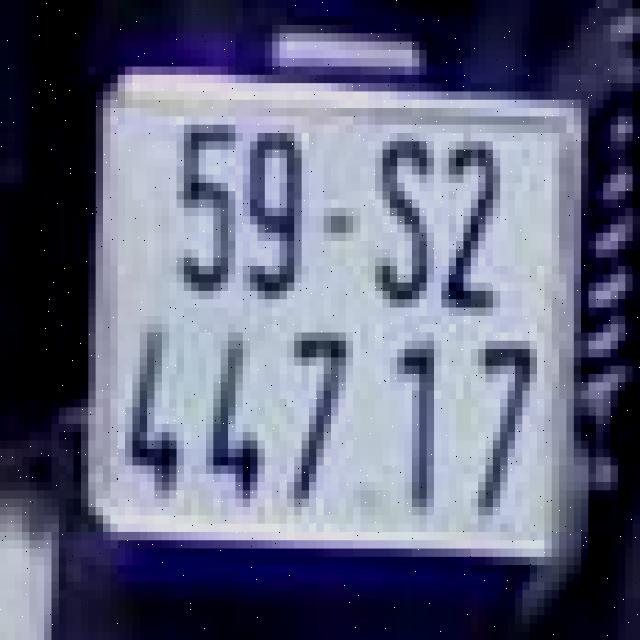1: (382, 332, 442, 524)
2: (445, 125, 504, 316)
4: (199, 316, 272, 507), (114, 320, 188, 503)
5: (166, 112, 239, 295)
7: (460, 332, 540, 532), (283, 320, 357, 503)
9: (235, 108, 309, 299)
S: (368, 116, 441, 324)
